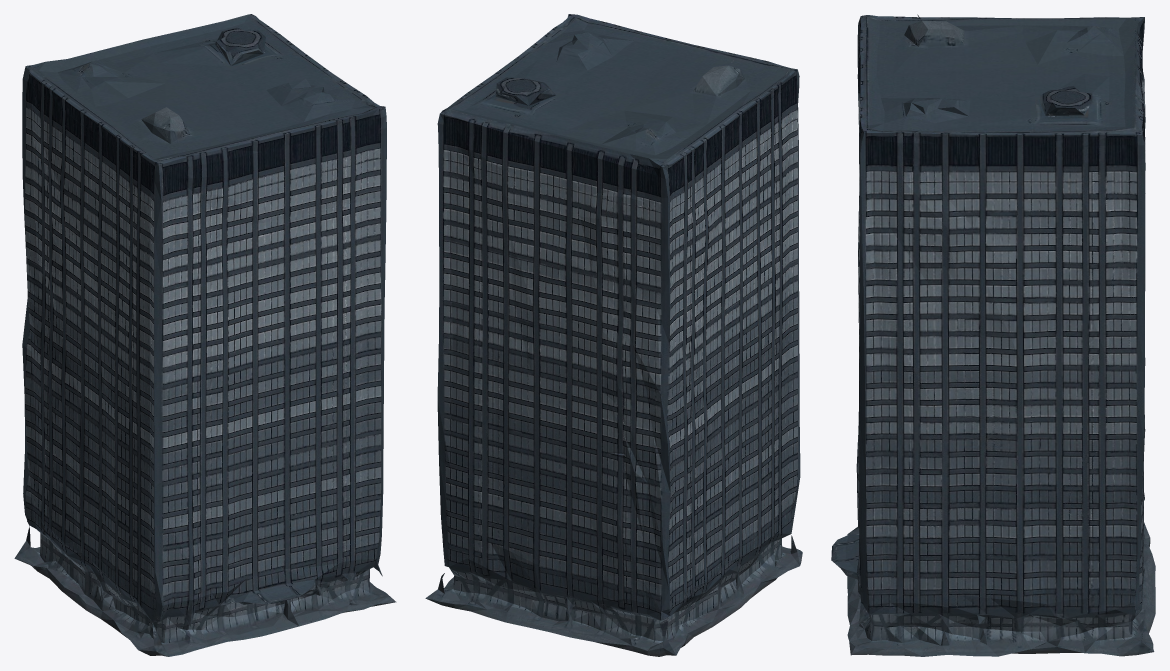
Rendered from Apartment.obj.
The picture shows the model from 3 angles, left to right: view 1: azimuth 30°, elevation 25°; view 2: azimuth 150°, elevation 25°; view 3: azimuth 270°, elevation 25°; orthographic projection. The views are drawn at different scales.
Parts seen in each view (by area): view 1: tripo_node_e72d54c8-13f2-4db7-a8de-8a0a2f2a75c7; view 2: tripo_node_e72d54c8-13f2-4db7-a8de-8a0a2f2a75c7; view 3: tripo_node_e72d54c8-13f2-4db7-a8de-8a0a2f2a75c7.
Boxes of the visible parts, bbox=[...] form: tripo_node_e72d54c8-13f2-4db7-a8de-8a0a2f2a75c7: bbox=[14, 14, 396, 656]; tripo_node_e72d54c8-13f2-4db7-a8de-8a0a2f2a75c7: bbox=[425, 14, 802, 656]; tripo_node_e72d54c8-13f2-4db7-a8de-8a0a2f2a75c7: bbox=[831, 14, 1155, 656].
Size of the model in its own units: 0.4836 by 0.9522 by 0.5171.
1 material, 1 textured.
